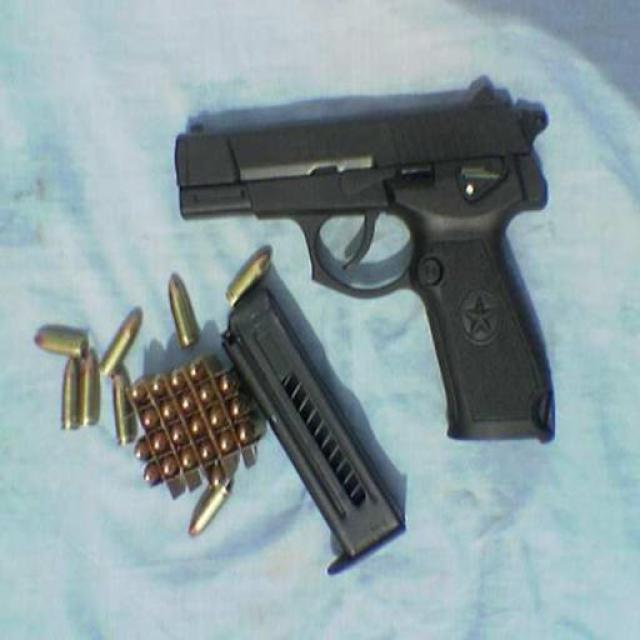pistol: (173, 84, 554, 443)
